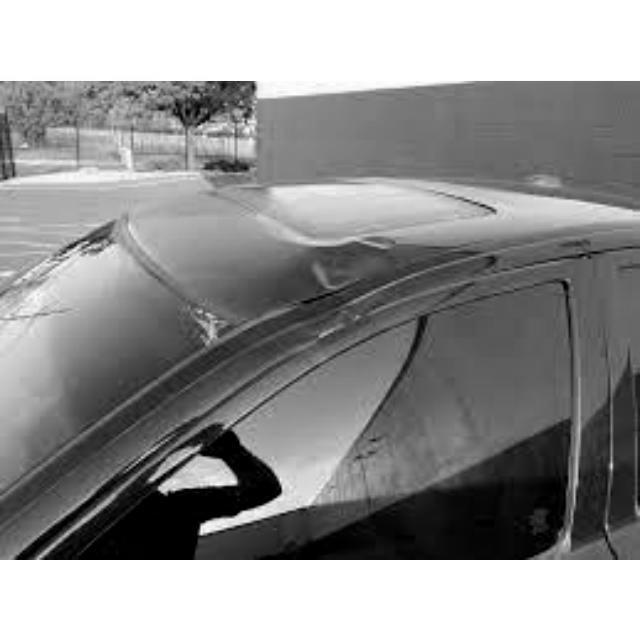roof-dent: (215, 177, 523, 325)
